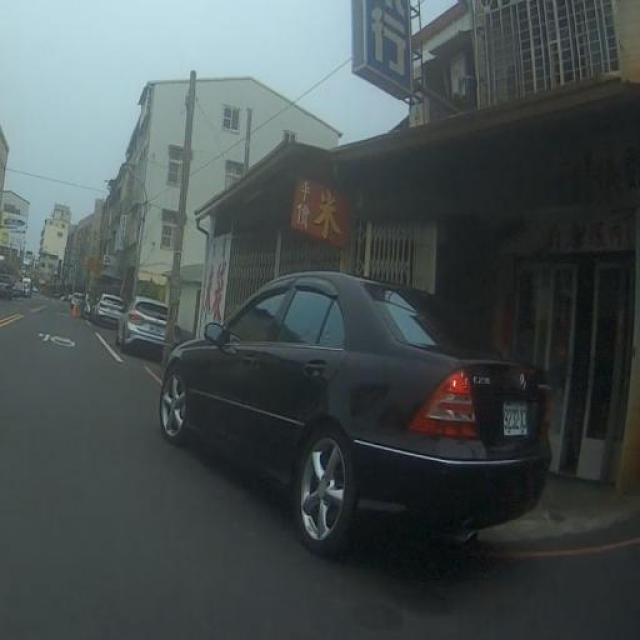illegalparking: (160, 274, 549, 555), (94, 294, 165, 351)
